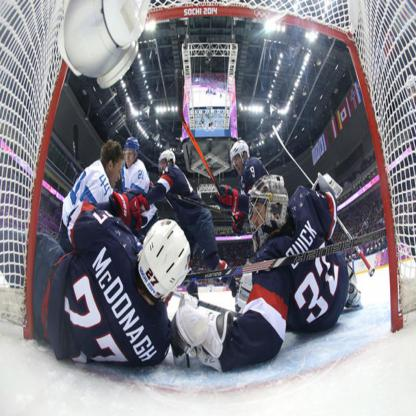face: (252, 196, 270, 237), (110, 162, 122, 189), (233, 155, 245, 176), (127, 147, 136, 167), (162, 159, 169, 176)
